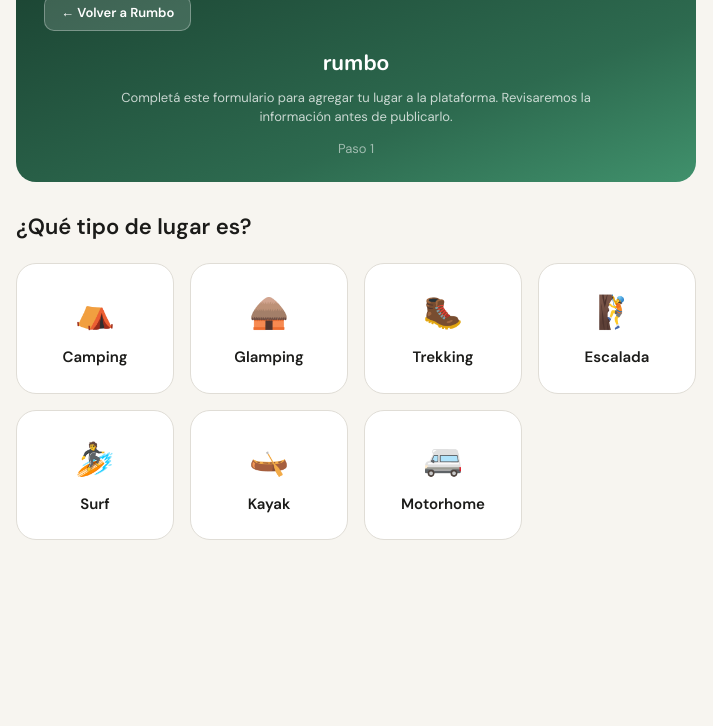
AgregarLugar: escuelas de surf y servicios de kayak (son lugares) › Dónde opera es obligatorio
What coordinates should you click on to do the following:
click the text "Kayak"
I would click on:
 (269, 504)
Its box is [248, 492, 290, 515].
(page scrolled)
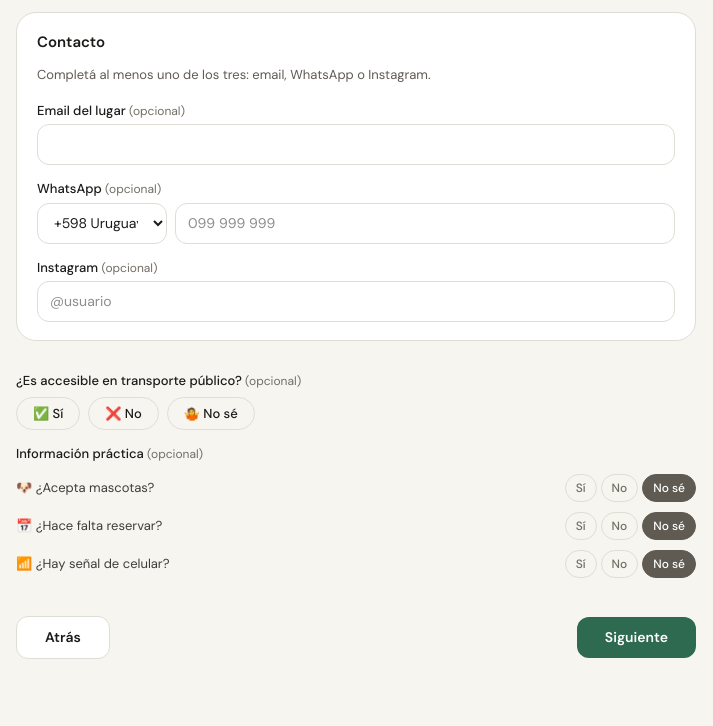
What coordinates should you click on to do the following:
click the button "Siguiente"
I would click on:
 (636, 637)
Its box is [577, 616, 696, 658].
(page scrolled)
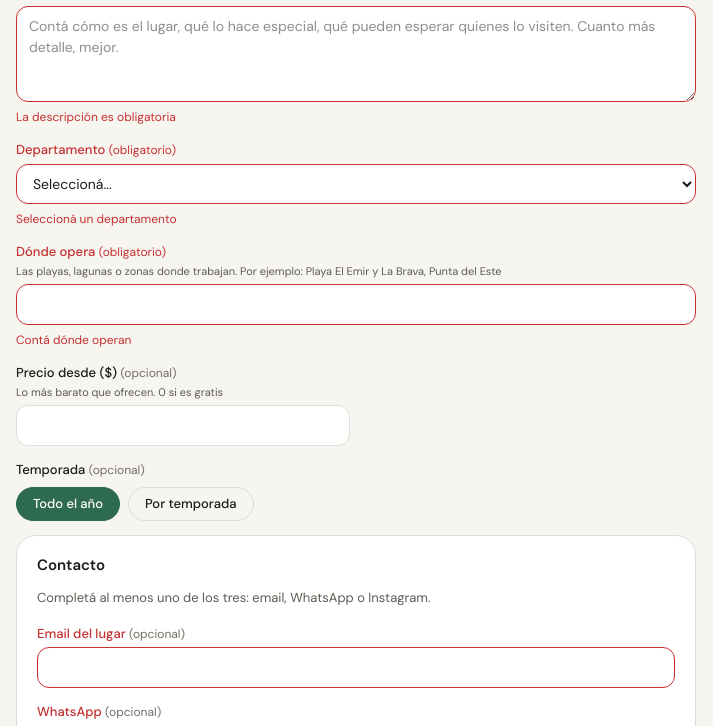
Now the text "Contá dónde operan" is shown, box [16, 332, 131, 348]
